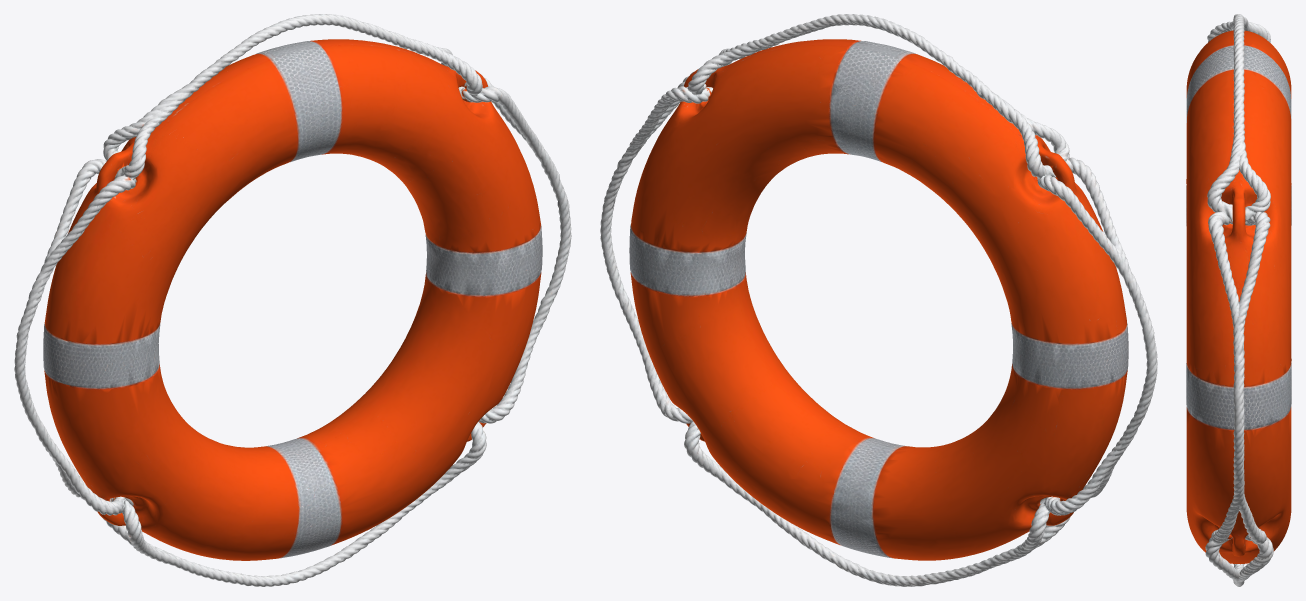
File: insp_lifebuoy.glb
The picture shows the model from 3 angles, left to right: view 1: azimuth 30°, elevation 25°; view 2: azimuth 150°, elevation 25°; view 3: azimuth 270°, elevation 25°; orthographic projection. The views are drawn at different scales.
Size of the model in its own units: 1.9 by 1.85 by 0.3233.
Materials: 1 (1 with a texture image).
